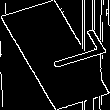L_SW: (14, 31, 96, 79)
